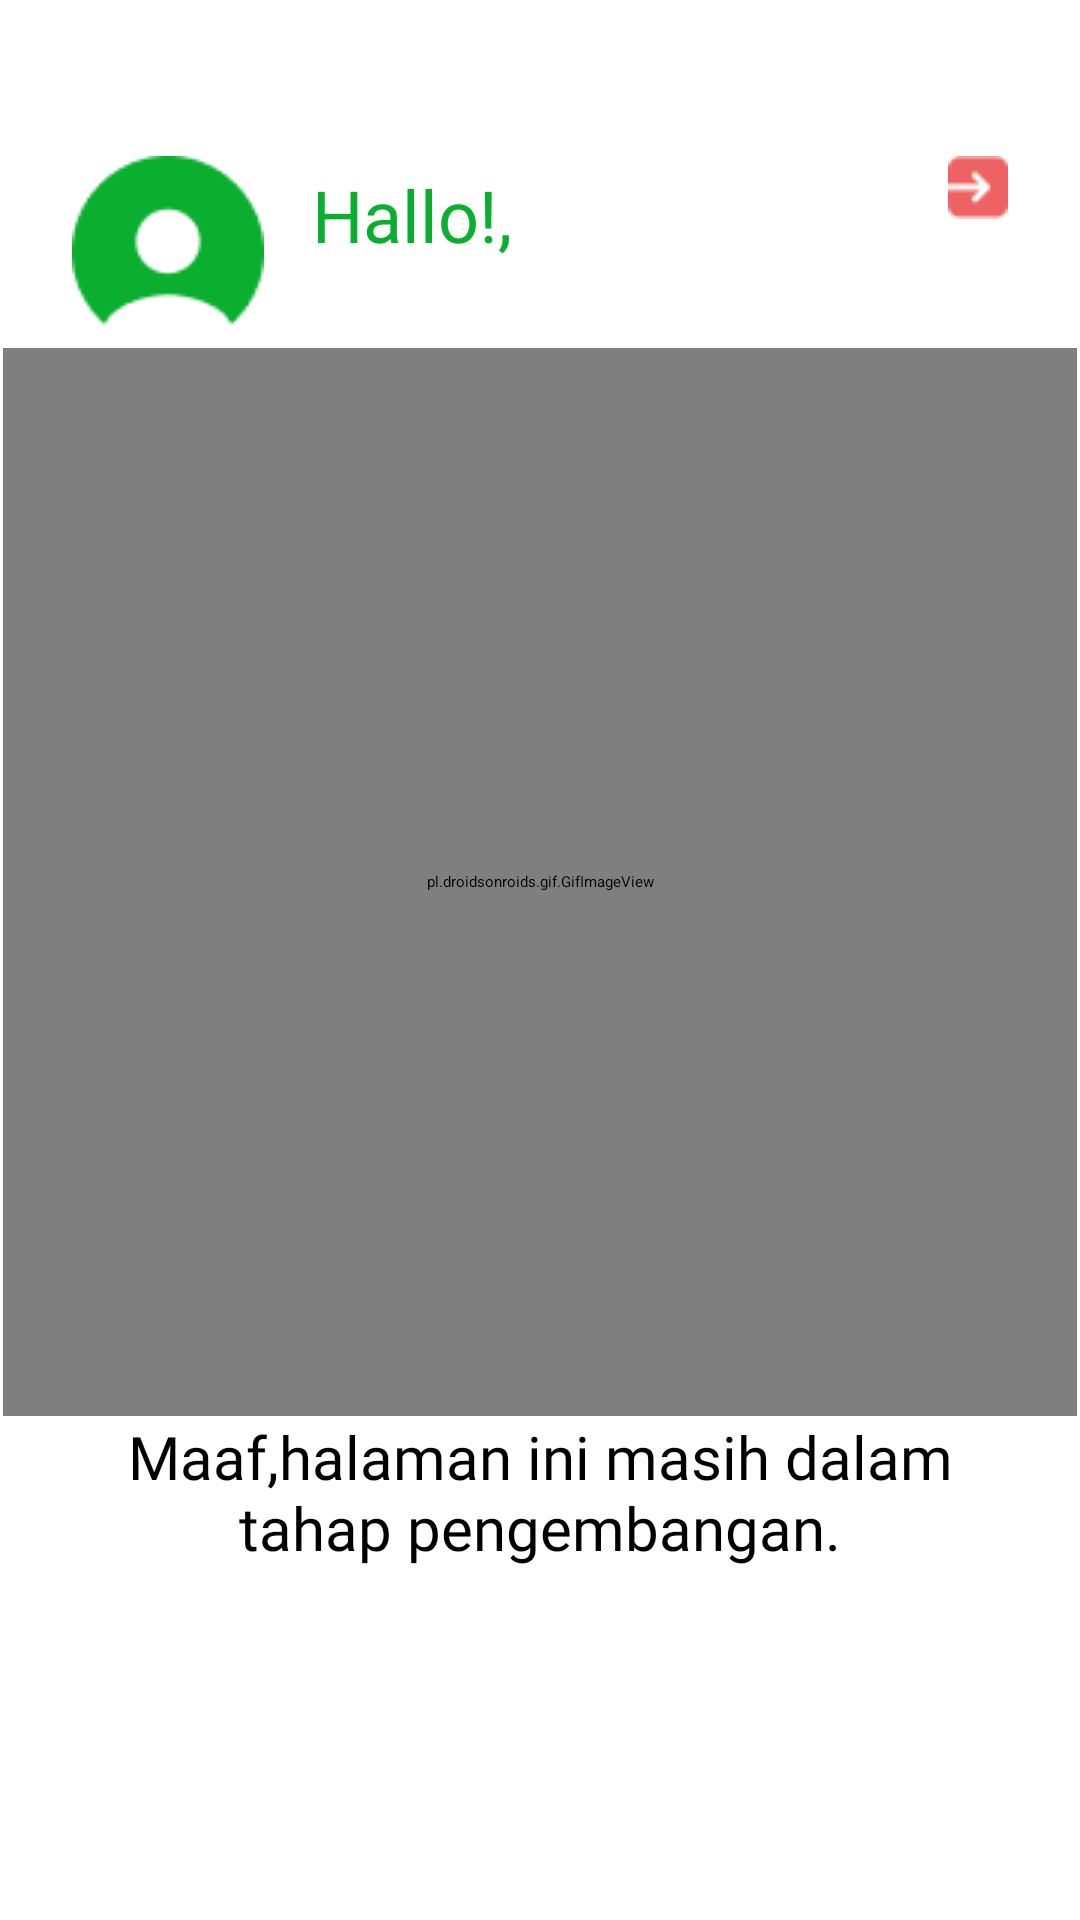

Locate icon controls on the screen. Image size 1080x1920, boxes as rect(x1, y1, x2, y2).
Log Out: rect(948, 156, 1008, 219)
Profile Image: rect(72, 156, 264, 325)
